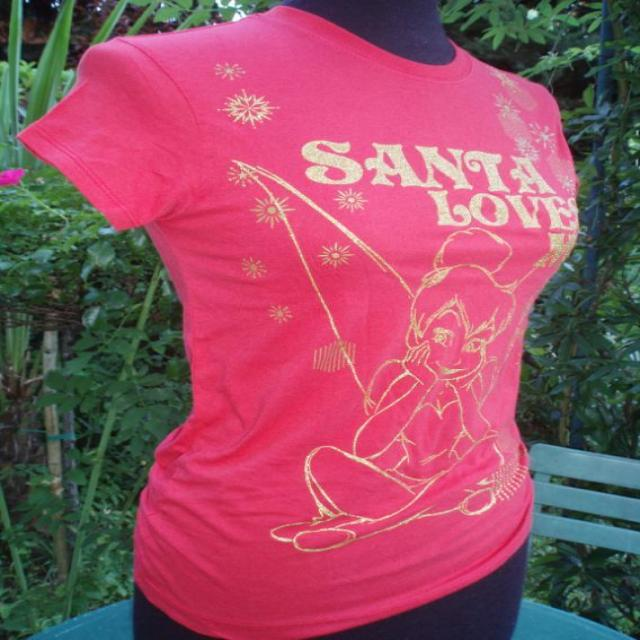T-shirt: (15, 7, 589, 640)
